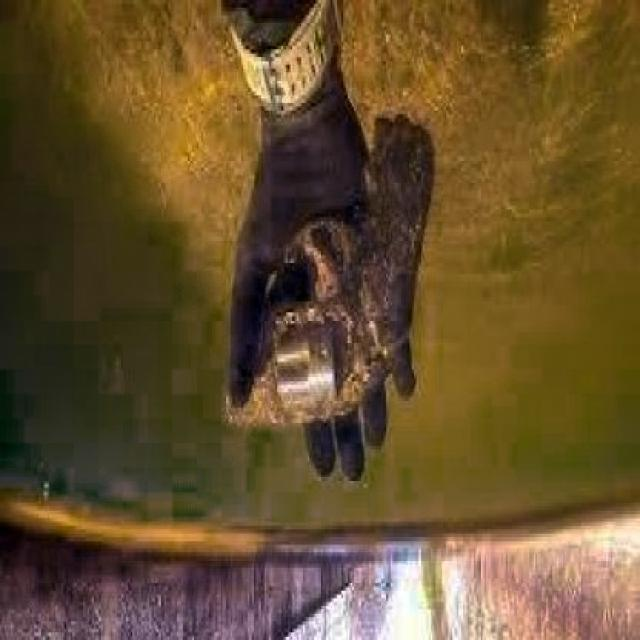misc: (225, 114, 437, 431)
